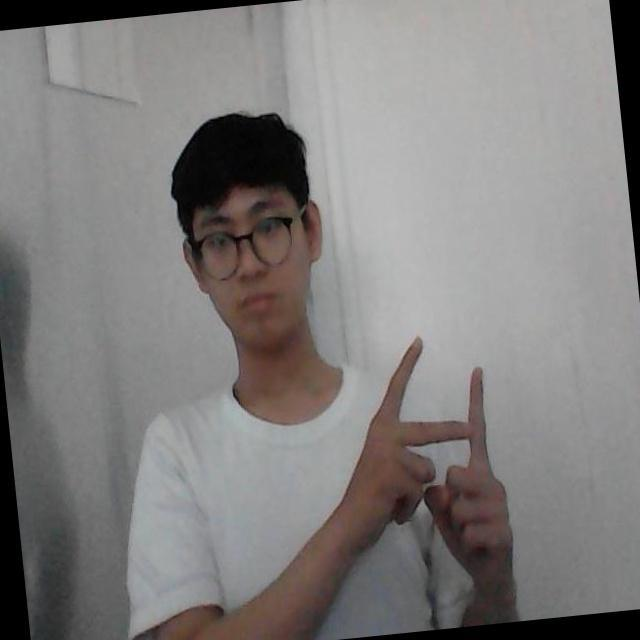H: (362, 328, 515, 524)
